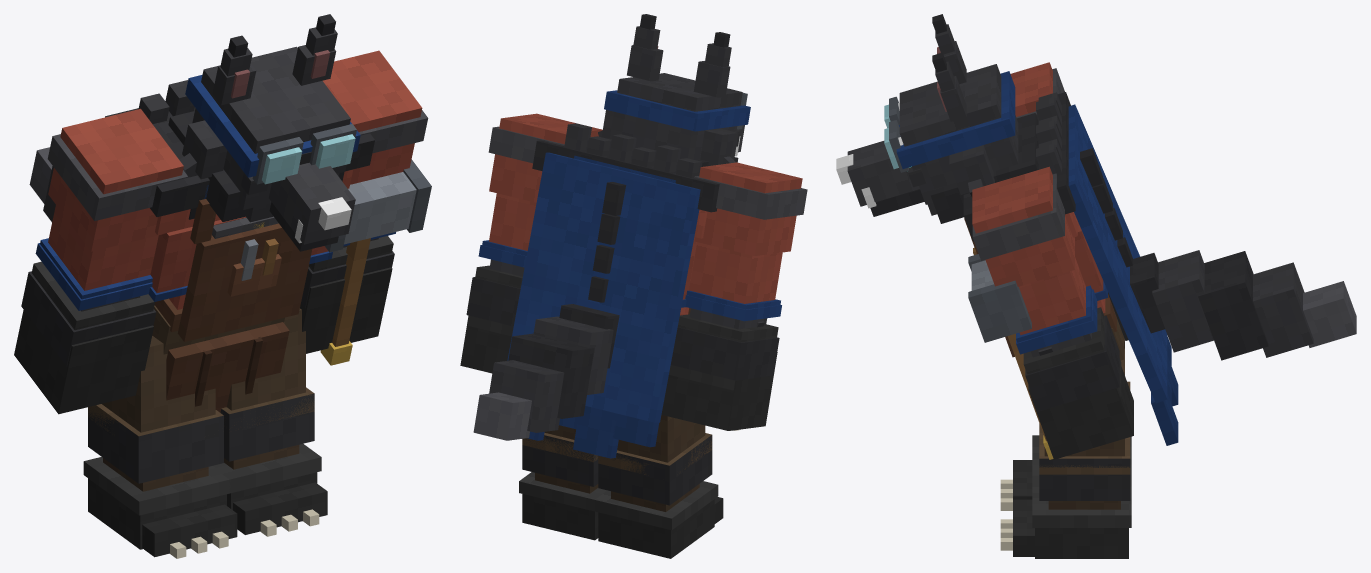
The model's file is lycan_forgeron.glb.
3 renders of one model, left to right at view 1: azimuth 30°, elevation 25°; view 2: azimuth 150°, elevation 25°; view 3: azimuth 270°, elevation 25°, orthographic. The views are drawn at different scales.
Parts seen in each view (by area): view 1: ArmR, Torso, Head, LegR, LegL, ArmL, HandL, Root; view 2: Torso, ArmR, LegR, Head, ArmL, LegL; view 3: Torso, ArmL, Head, LegL, HandL, ArmR, LegR, Root.
Part boxes in pixels (bbox=[...]): ArmR: bbox=[14, 108, 189, 414]; Torso: bbox=[29, 80, 374, 412]; Head: bbox=[168, 14, 360, 251]; LegR: bbox=[83, 336, 237, 557]; LegL: bbox=[213, 308, 327, 534]; ArmL: bbox=[300, 50, 428, 353]; HandL: bbox=[320, 159, 431, 365]; Root: bbox=[170, 509, 319, 558]; Torso: bbox=[473, 123, 719, 458]; ArmR: bbox=[661, 162, 807, 430]; LegR: bbox=[594, 415, 723, 558]; Head: bbox=[598, 14, 750, 166]; ArmL: bbox=[460, 113, 602, 373]; LegL: bbox=[519, 425, 607, 540]; Torso: bbox=[963, 92, 1356, 445]; ArmL: bbox=[972, 166, 1133, 459]; Head: bbox=[836, 14, 1038, 223]; LegL: bbox=[1013, 348, 1131, 558]; HandL: bbox=[968, 254, 1053, 459]; ArmR: bbox=[1010, 62, 1064, 118]; LegR: bbox=[1013, 338, 1131, 499]; Root: bbox=[1000, 479, 1012, 550].
Bounding box in the file's own units: 1.24 × 1.94 × 1.89.
Materials: 41 (41 with a texture image).
